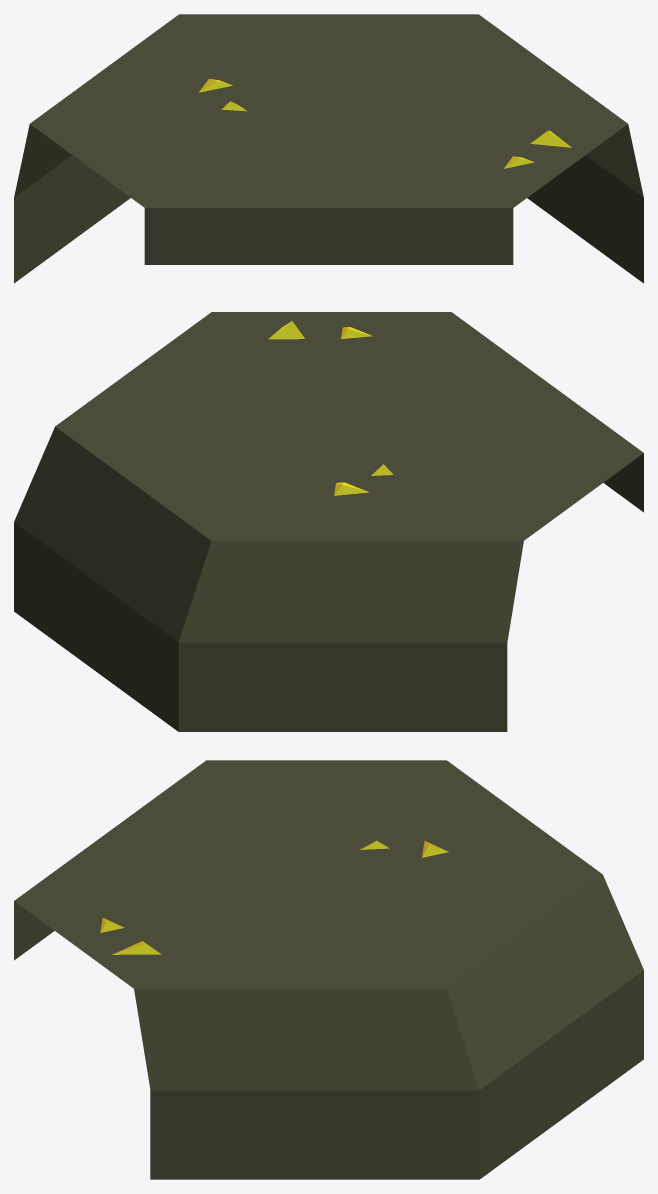
File: nearpointUnit1(1).fbx
3 views of the same model, one above another, from view 1: azimuth 30°, elevation 25°; view 2: azimuth 150°, elevation 25°; view 3: azimuth 270°, elevation 25° (orthographic). The views are drawn at different scales.
Parts seen in each view (by area): view 1: nearpointUnit1(1); view 2: nearpointUnit1(1); view 3: nearpointUnit1(1).
Boxes of the visible parts, x1,y1,x2,y2 form: nearpointUnit1(1): (14, 14, 643, 283); nearpointUnit1(1): (14, 312, 643, 731); nearpointUnit1(1): (14, 760, 643, 1179).
Size of the model in its own units: 1.73 by 1.91 by 0.6254.
